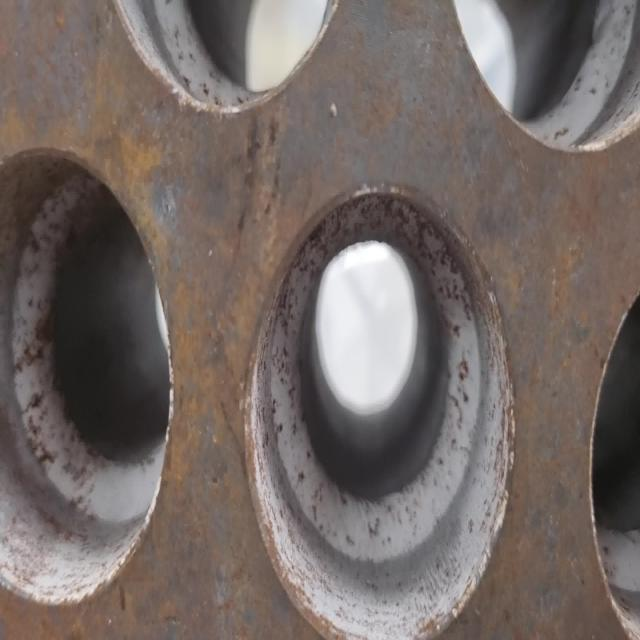Hole: (244, 184, 514, 638), (1, 144, 173, 614), (447, 1, 639, 155), (103, 1, 339, 117)
